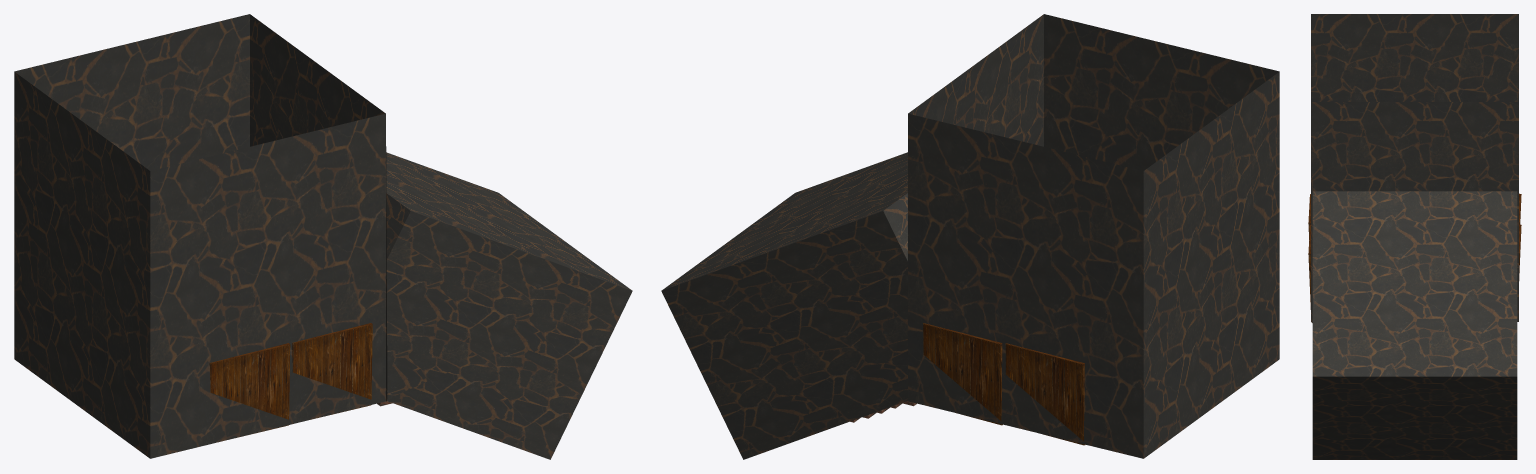
The model's file is study.glb.
The picture shows the model from 3 angles, left to right: view 1: azimuth 30°, elevation 25°; view 2: azimuth 150°, elevation 25°; view 3: azimuth 270°, elevation 25°; orthographic projection. The views are drawn at different scales.
Visible parts, largest first — view 1: Room, Bookshelf; view 2: Room, Bookshelf; view 3: Room, Bookshelf.
Boxes of the visible parts, <box> form: Room: <box>14,14,632,459</box>; Bookshelf: <box>209,323,372,436</box>; Room: <box>661,14,1279,459</box>; Bookshelf: <box>923,323,1085,445</box>; Room: <box>1311,14,1518,459</box>; Bookshelf: <box>1308,193,1521,309</box>.
Size of the model in its own units: 24.62 by 18.85 by 12.29.
Materials: 9 (9 with a texture image).
